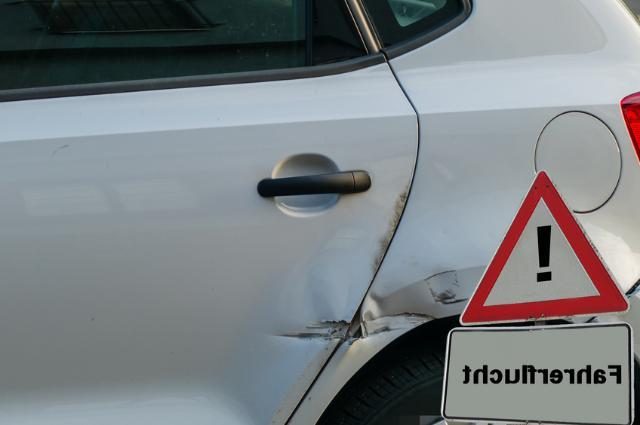Bumper: (366, 244, 624, 358)
Door: (265, 178, 407, 353)
